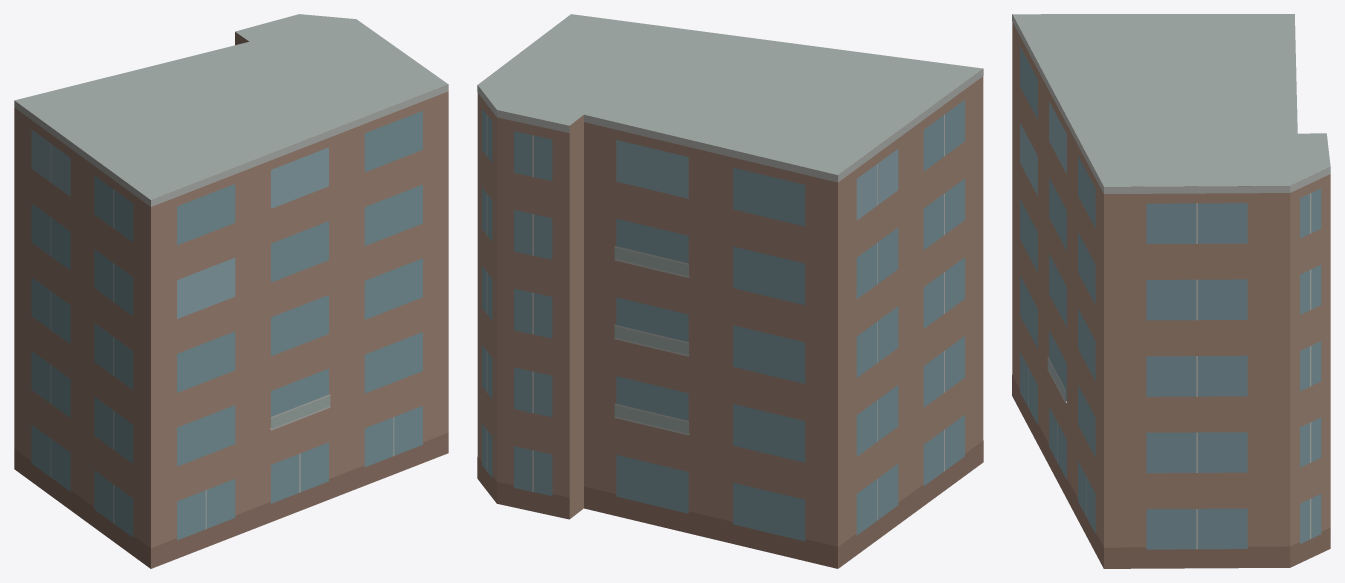
File: survey-upis-32890259.glb
3 renders of one model, left to right at view 1: azimuth 30°, elevation 25°; view 2: azimuth 150°, elevation 25°; view 3: azimuth 270°, elevation 25°, orthographic. The views are drawn at different scales.
Visible parts, largest first — view 1: survey-upis-32890259.tmp; view 2: survey-upis-32890259.tmp; view 3: survey-upis-32890259.tmp.
Part boxes in pixels (x1,y1,x2,y2): survey-upis-32890259.tmp: [14, 14, 448, 568]; survey-upis-32890259.tmp: [477, 14, 983, 568]; survey-upis-32890259.tmp: [1012, 14, 1330, 568].
Bounding box in the file's own units: 12.64 × 13 × 9.83.
